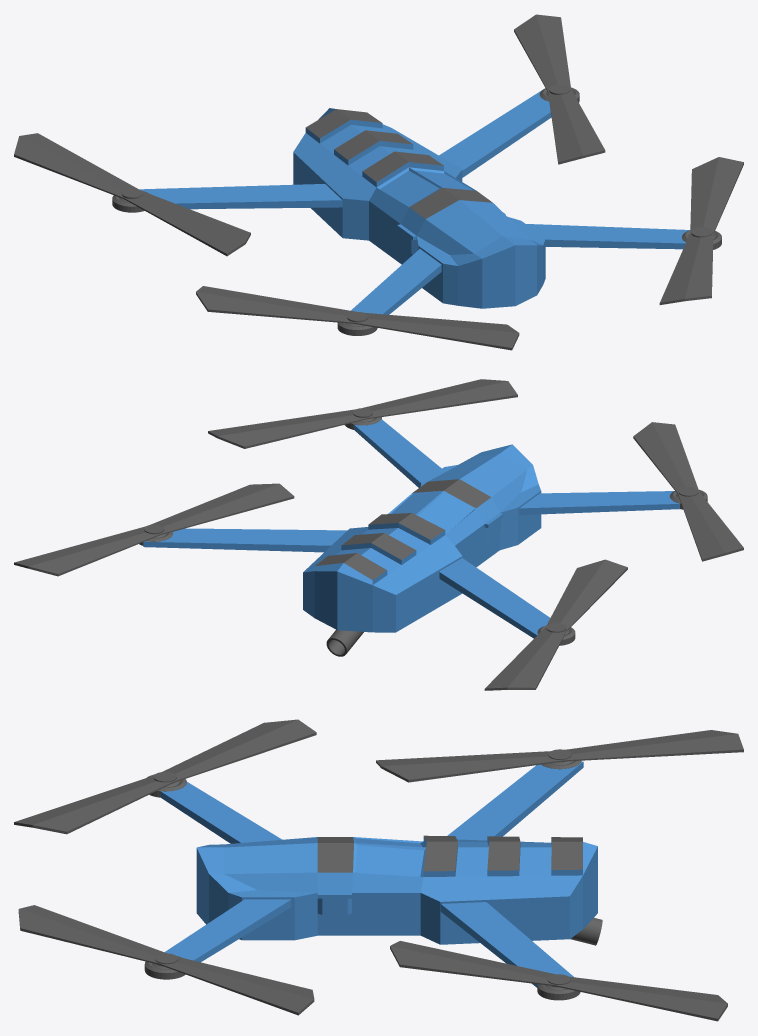
File: drone delivery.fbx
3 renders of one model, top to bottom at view 1: azimuth 30°, elevation 25°; view 2: azimuth 150°, elevation 25°; view 3: azimuth 270°, elevation 25°, orthographic. The views are drawn at different scales.
Parts seen in each view (by area): view 1: base, blade 2, blade 4, blade 3, blade 1; view 2: base, blade 1, blade 3, blade 4, blade 2; view 3: base, blade 4, blade 3, blade 2, blade 1.
Part boxes in pixels (x1,y1,x2,y2): base: (112,84,721,335); blade 2: (196,286,519,350); blade 4: (14,133,250,256); blade 3: (514,14,605,164); blade 1: (659,157,743,304); base: (139,408,707,656); blade 1: (208,379,517,448); blade 3: (14,483,294,576); blade 4: (484,559,627,690); blade 2: (633,422,743,561); base: (144,749,602,1000); blade 4: (376,730,743,782); blade 3: (390,941,727,1021); blade 2: (14,719,316,834); blade 1: (18,905,314,1015).
Bounding box in the file's own units: 1312 × 211 × 1363.
